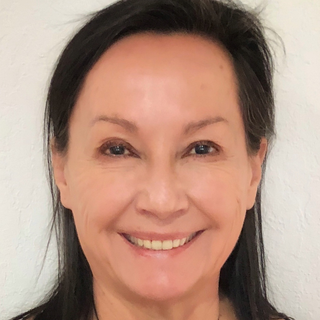eye: (178, 136, 226, 162), (95, 138, 143, 164)
